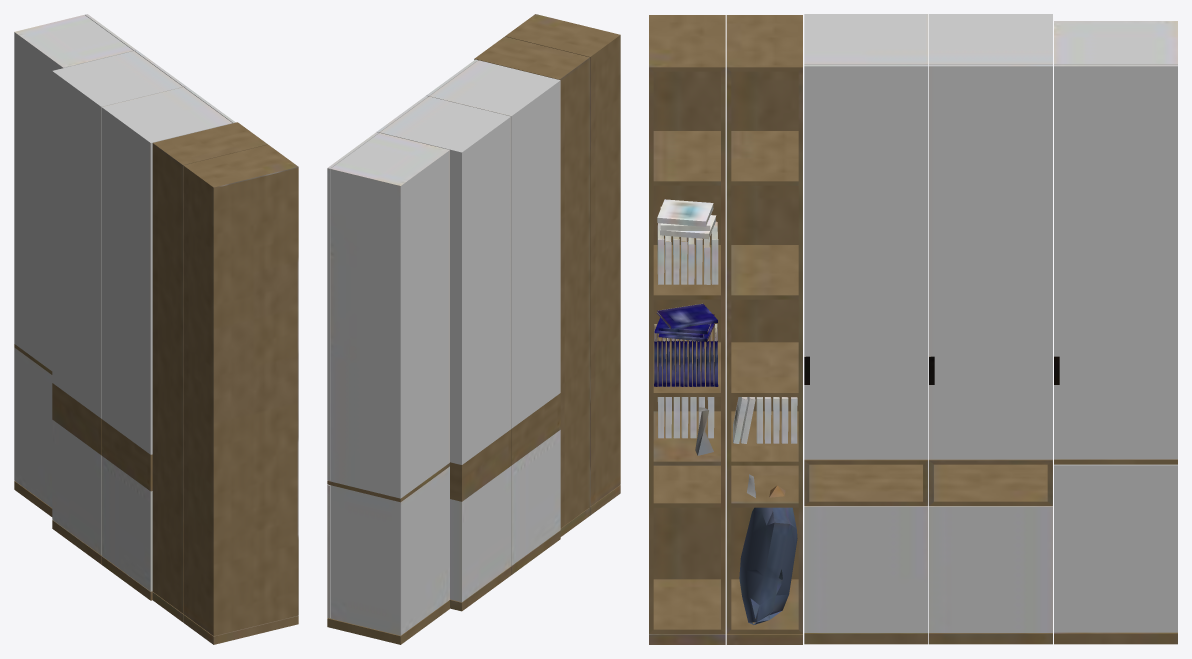
File: Cupboard0021.obj
The picture shows the model from 3 angles, left to right: view 1: azimuth 30°, elevation 25°; view 2: azimuth 150°, elevation 25°; view 3: azimuth 270°, elevation 25°; orthographic projection. The views are drawn at different scales.
Bounding box in the file's own units: 0.497 × 2.5 × 2.07.
1 material, 1 textured.
